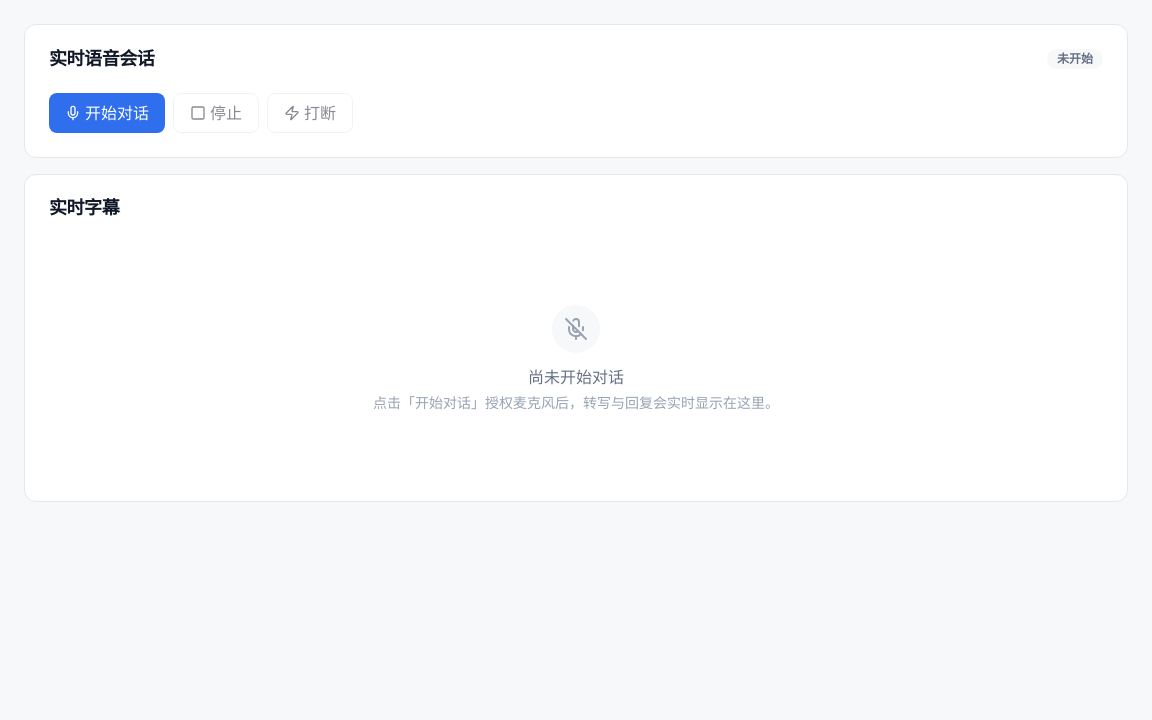
Scenario: RealtimeVoicePage › socket 错误 / 关闭提示；采集与播放错误走提示条
The image size is (1152, 720).
Click the button "开始对话" at {"x": 107, "y": 113}, box [49,93,165,133]
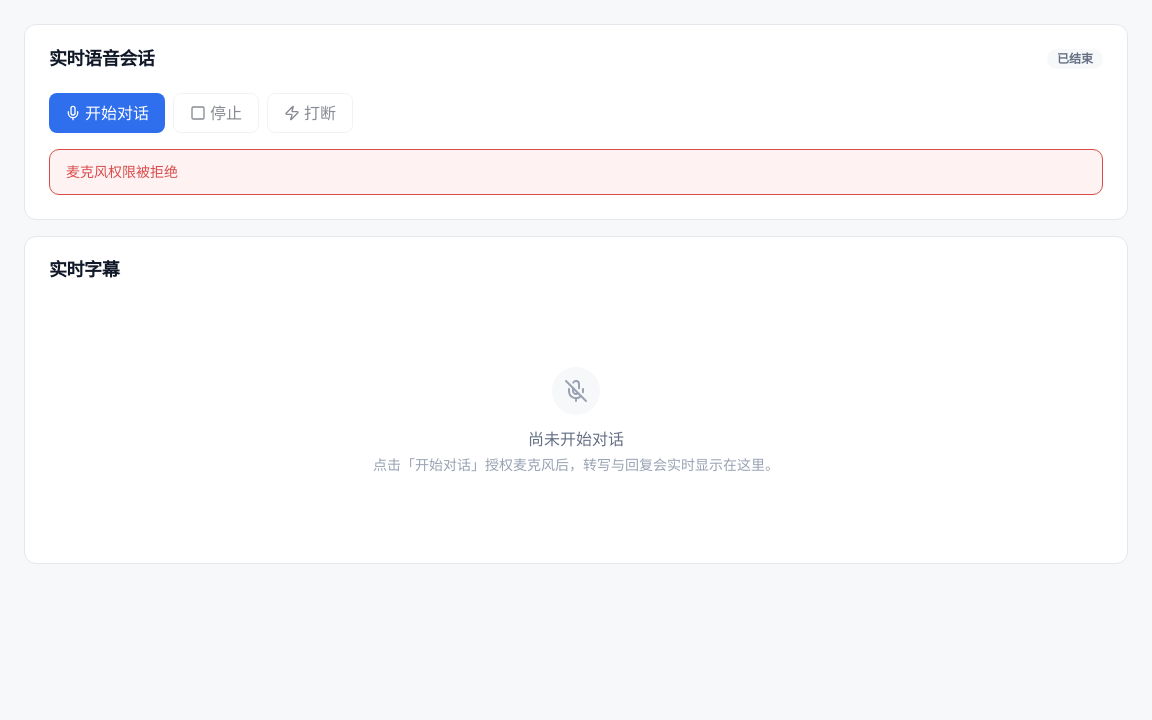
Check: the text "麦克风权限被拒绝" is shown, box [66,163,178,180]
Check: the text named "会话状态" reads "已结束", box [1057,51,1093,66]
